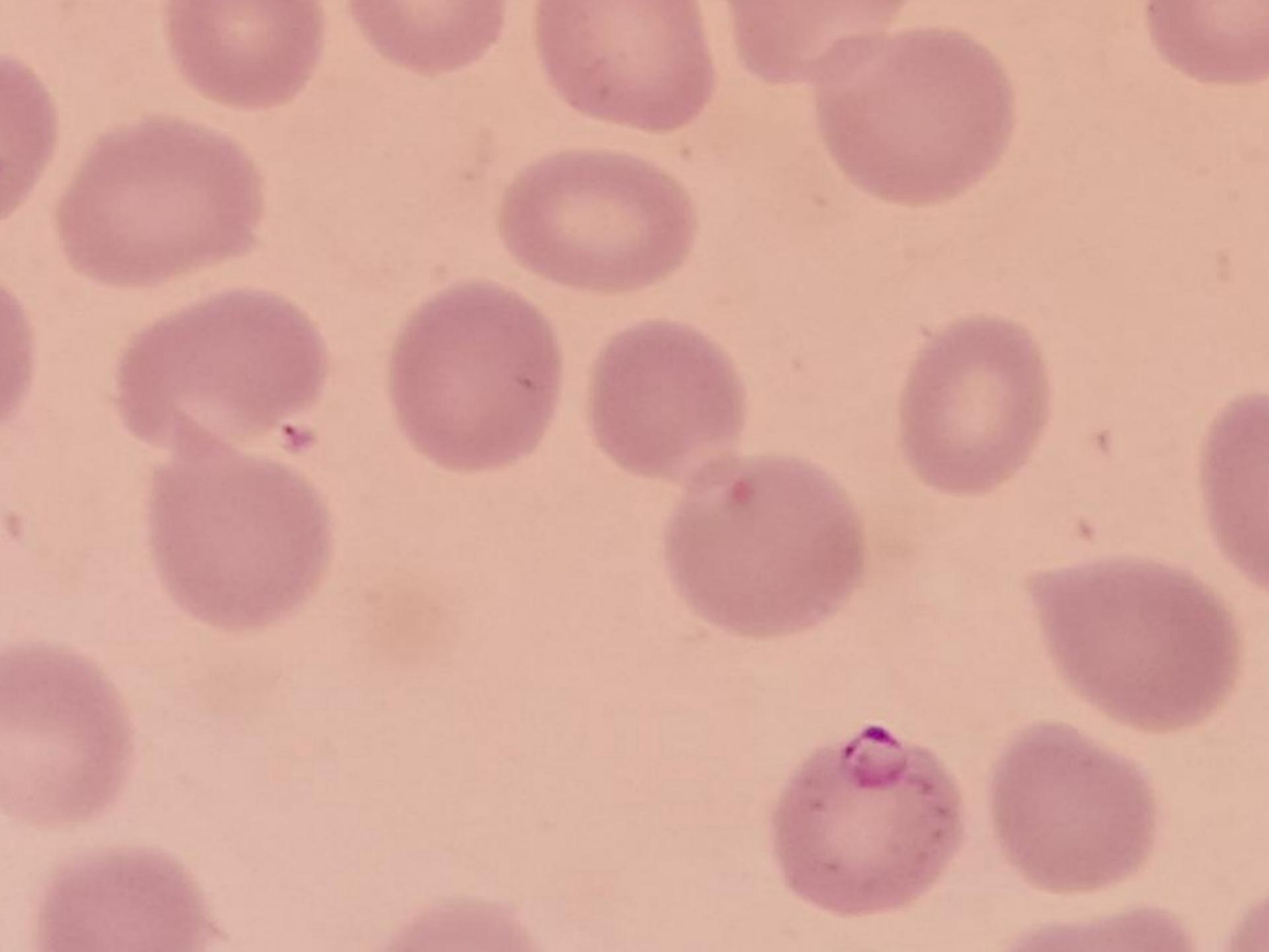Infected: (775, 722, 966, 915)
Uninfected: (1021, 555, 1241, 724), (666, 451, 858, 639), (145, 441, 332, 633), (56, 119, 262, 289), (813, 28, 1011, 204), (388, 279, 557, 470), (119, 289, 321, 446), (502, 147, 701, 294), (995, 722, 1157, 891), (899, 312, 1047, 493), (588, 322, 752, 480), (0, 649, 134, 829), (532, 0, 716, 130), (165, 0, 323, 108)
